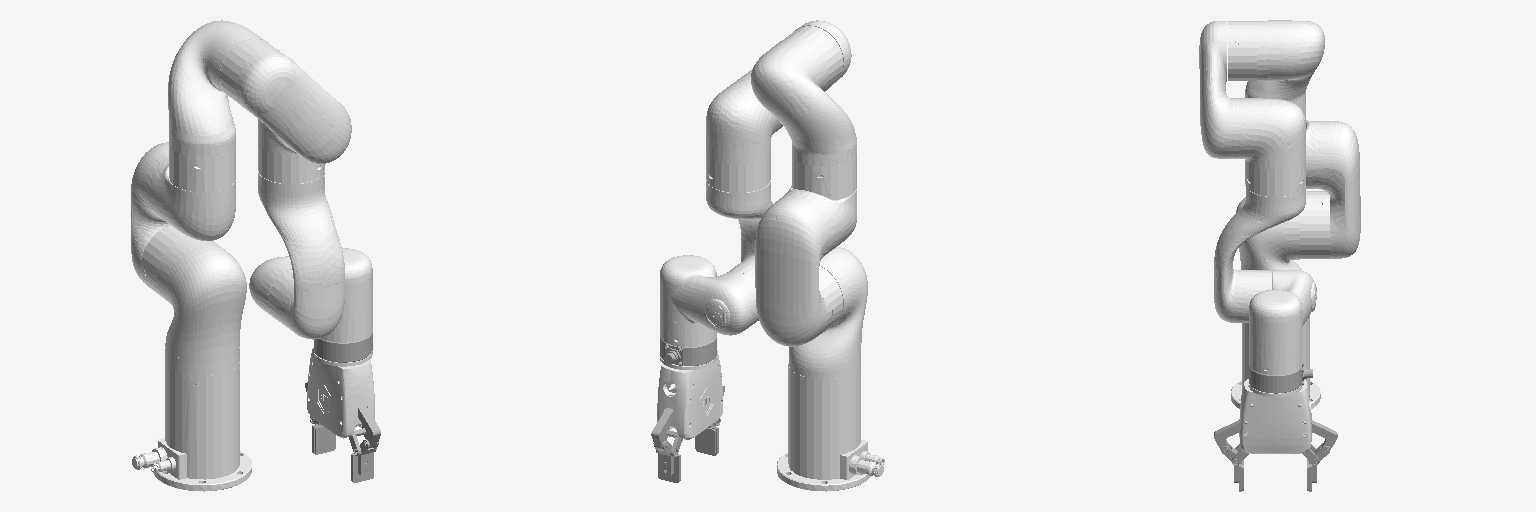
--- What the picture shows (computed from the rendered views, not written in the file) ---
Views: 3 orthographic renders of the robot side by side, from view 1: azimuth 30°, elevation 25°; view 2: azimuth 150°, elevation 25°; view 3: azimuth 270°, elevation 25°.
Model UF_ROBOT with 18 links and 17 joints (13 revolute, 4 fixed), rooted at world, posed all joints at 0.
Visible links, largest first — view 1: link1, link4, link5, link_base, link3, link2, xarm_gripper_base_link, link6, link7, left_finger, right_finger; view 2: link2, link3, link_base, link4, link6, link1, xarm_gripper_base_link, link5, link7, right_finger, left_finger; view 3: link4, link3, link2, link6, link5, xarm_gripper_base_link, link1, link_base, link7.
Boxes of the visible links, x1=… form: link1: x1=141, y1=225, x2=246, y2=375; link4: x1=236, y1=50, x2=351, y2=183; link5: x1=258, y1=171, x2=344, y2=339; link_base: x1=132, y1=362, x2=251, y2=491; link3: x1=168, y1=20, x2=279, y2=156; link2: x1=131, y1=142, x2=235, y2=287; xarm_gripper_base_link: x1=307, y1=346, x2=374, y2=438; link6: x1=249, y1=248, x2=372, y2=342; link7: x1=314, y1=331, x2=372, y2=362; left_finger: x1=351, y1=439, x2=378, y2=482; right_finger: x1=312, y1=422, x2=335, y2=454; link2: x1=755, y1=155, x2=856, y2=346; link3: x1=751, y1=26, x2=856, y2=166; link_base: x1=777, y1=363, x2=884, y2=491; link4: x1=706, y1=20, x2=851, y2=192; link6: x1=660, y1=255, x2=758, y2=346; link1: x1=789, y1=247, x2=867, y2=378; xarm_gripper_base_link: x1=657, y1=351, x2=722, y2=439; link5: x1=706, y1=180, x2=772, y2=280; link7: x1=660, y1=337, x2=716, y2=365; right_finger: x1=653, y1=441, x2=680, y2=482; left_finger: x1=695, y1=424, x2=718, y2=455; link4: x1=1199, y1=21, x2=1305, y2=196; link3: x1=1228, y1=20, x2=1324, y2=107; link2: x1=1301, y1=103, x2=1360, y2=258; link6: x1=1249, y1=270, x2=1316, y2=374; link5: x1=1214, y1=184, x2=1305, y2=322; xarm_gripper_base_link: x1=1239, y1=379, x2=1311, y2=453; link1: x1=1236, y1=191, x2=1329, y2=289; link_base: x1=1231, y1=316, x2=1320, y2=408; link7: x1=1249, y1=362, x2=1312, y2=393.
Bounding box of the posed robot: 0.3358 × 0.2259 × 0.6444 m (x, y, z).
15 mesh visuals loaded from 15 distinct referenced files (15 Collada DAE).

URDF robot description (UF_ROBOT):
<?xml version="1.0" ?>
<!-- =================================================================================== -->
<!-- |    This document was autogenerated by xacro from xarm_device.urdf.xacro         | -->
<!-- |    EDITING THIS FILE BY HAND IS NOT RECOMMENDED                                 | -->
<!-- =================================================================================== -->
<robot name="UF_ROBOT">
  <!-- Insert at the beginning of xarm_device_macro.xacro -->
  <material name="Black">
    <color rgba="0.0 0.0 0.0 1.0"/>
  </material>
  <material name="Red">
    <color rgba="0.8 0.0 0.0 1.0"/>
  </material>
  <material name="White">
    <color rgba="1.0 1.0 1.0 1.0"/>
  </material>
  <material name="Silver">
    <color rgba="0.753 0.753 0.753 1.0"/>
  </material>
  <link name="world"/>
  <joint name="world_joint" type="fixed">
    <parent link="world"/>
    <child link="link_base"/>
    <origin rpy="0 0 0" xyz="0 0 0"/>
  </joint>
  <ros2_control name="uf_robot_hardware/UFRobotSystemHardware" type="system">
    <hardware>
      <plugin>uf_robot_hardware/UFRobotSystemHardware</plugin>
      <param name="hw_ns">xarm</param>
      <param name="velocity_control">False</param>
      <param name="prefix">P</param>
      <param name="robot_ip">R</param>
      <param name="report_type">normal</param>
      <param name="dof">7</param>
      <param name="baud_checkset">True</param>
      <param name="default_gripper_baud">2000000</param>
      <param name="robot_type">xarm</param>
      <param name="add_gripper">True</param>
      <param name="add_bio_gripper">False</param>
    </hardware>
    <joint name="joint1">
      <command_interface name="position">
        <param name="min">-6.283185307179586</param>
        <param name="max">6.283185307179586</param>
      </command_interface>
      <command_interface name="velocity">
        <param name="min">-3.14</param>
        <param name="max">3.14</param>
      </command_interface>
      <state_interface name="position"/>
      <state_interface name="velocity"/>
      <!-- <state_interface name="effort"/> -->
    </joint>
    <joint name="joint2">
      <command_interface name="position">
        <param name="min">-2.059</param>
        <param name="max">2.0944</param>
      </command_interface>
      <command_interface name="velocity">
        <param name="min">-3.14</param>
        <param name="max">3.14</param>
      </command_interface>
      <state_interface name="position"/>
      <state_interface name="velocity"/>
      <!-- <state_interface name="effort"/> -->
    </joint>
    <joint name="joint3">
      <command_interface name="position">
        <param name="min">-6.283185307179586</param>
        <param name="max">6.283185307179586</param>
      </command_interface>
      <command_interface name="velocity">
        <param name="min">-3.14</param>
        <param name="max">3.14</param>
      </command_interface>
      <state_interface name="position"/>
      <state_interface name="velocity"/>
      <!-- <state_interface name="effort"/> -->
    </joint>
    <joint name="joint4">
      <command_interface name="position">
        <param name="min">-0.19198</param>
        <param name="max">3.927</param>
      </command_interface>
      <command_interface name="velocity">
        <param name="min">-3.14</param>
        <param name="max">3.14</param>
      </command_interface>
      <state_interface name="position"/>
      <state_interface name="velocity"/>
      <!-- <state_interface name="effort"/> -->
    </joint>
    <joint name="joint5">
      <command_interface name="position">
        <param name="min">-6.283185307179586</param>
        <param name="max">6.283185307179586</param>
      </command_interface>
      <command_interface name="velocity">
        <param name="min">-3.14</param>
        <param name="max">3.14</param>
      </command_interface>
      <state_interface name="position"/>
      <state_interface name="velocity"/>
      <!-- <state_interface name="effort"/> -->
    </joint>
    <joint name="joint6">
      <command_interface name="position">
        <param name="min">-1.69297</param>
        <param name="max">3.141592653589793</param>
      </command_interface>
      <command_interface name="velocity">
        <param name="min">-3.14</param>
        <param name="max">3.14</param>
      </command_interface>
      <state_interface name="position"/>
      <state_interface name="velocity"/>
      <!-- <state_interface name="effort"/> -->
    </joint>
    <joint name="joint7">
      <command_interface name="position">
        <param name="min">-6.283185307179586</param>
        <param name="max">6.283185307179586</param>
      </command_interface>
      <command_interface name="velocity">
        <param name="min">-3.14</param>
        <param name="max">3.14</param>
      </command_interface>
      <state_interface name="position"/>
      <state_interface name="velocity"/>
      <!-- <state_interface name="effort"/> -->
    </joint>
  </ros2_control>
  <link name="link_base">
    <inertial>
      <origin rpy="0 0 0" xyz="-0.021131 -0.0016302 0.056488"/>
      <mass value="0.88556"/>
      <inertia ixx="0.0030595" ixy="0.00012259" ixz="-0.00062705" iyy="0.0037783" iyz="0.00027023" izz="0.0020125"/>
    </inertial>
    <visual>
      <geometry>
        <mesh filename="package://xarm_description/meshes/xarm7/visual/link_base.dae"/>
      </geometry>
      <origin rpy="0 0 0" xyz="0 0 0"/>
      <material name="White"/>
    </visual>
    <collision>
      <geometry>
        <mesh filename="package://xarm_description/meshes/xarm7/visual/link_base.dae"/>
      </geometry>
      <origin rpy="0 0 0" xyz="0 0 0"/>
    </collision>
  </link>
  <link name="link1">
    <inertial>
      <origin rpy="0 0 0" xyz="-0.0002 0.02905 -0.01233"/>
      <mass value="2.382"/>
      <inertia ixx="0.0056905" ixy="-1.579e-05" ixz="5.125e-06" iyy="0.0049566" iyz="-0.000873378" izz="0.003316654"/>
    </inertial>
    <visual>
      <geometry>
        <mesh filename="package://xarm_description/meshes/xarm7/visual/link1.dae"/>
      </geometry>
      <origin rpy="0 0 0" xyz="0 0 0"/>
      <material name="White"/>
    </visual>
    <collision>
      <geometry>
        <mesh filename="package://xarm_description/meshes/xarm7/visual/link1.dae"/>
      </geometry>
      <origin rpy="0 0 0" xyz="0 0 0"/>
    </collision>
  </link>
  <joint name="joint1" type="revolute">
    <origin rpy="0 0 0" xyz="0 0 0.267"/>
    <parent link="link_base"/>
    <child link="link1"/>
    <axis xyz="0 0 1"/>
    <limit effort="50" lower="-6.283185307179586" upper="6.283185307179586" velocity="3.14"/>
    <dynamics damping="10" friction="1"/>
  </joint>
  <link name="link2">
    <inertial>
      <origin rpy="0 0 0" xyz="0.00022 -0.12856 0.01735"/>
      <mass value="1.869"/>
      <inertia ixx="0.0095989" ixy="1.541e-06" ixz="5.56e-06" iyy="0.00382472" iyz="-0.00317156" izz="0.007565669"/>
    </inertial>
    <visual>
      <geometry>
        <mesh filename="package://xarm_description/meshes/xarm7/visual/link2.dae"/>
      </geometry>
      <origin rpy="0 0 0" xyz="0 0 0"/>
      <material name="White"/>
    </visual>
    <collision>
      <geometry>
        <mesh filename="package://xarm_description/meshes/xarm7/visual/link2.dae"/>
      </geometry>
      <origin rpy="0 0 0" xyz="0 0 0"/>
    </collision>
  </link>
  <joint name="joint2" type="revolute">
    <origin rpy="-1.5708 0 0" xyz="0 0 0"/>
    <parent link="link1"/>
    <child link="link2"/>
    <axis xyz="0 0 1"/>
    <limit effort="50" lower="-2.059" upper="2.0944" velocity="3.14"/>
    <dynamics damping="10" friction="1"/>
  </joint>
  <link name="link3">
    <inertial>
      <origin rpy="0 0 0" xyz="0.0466 -0.02463 -0.00768"/>
      <mass value="1.6383"/>
      <inertia ixx="0.00310955" ixy="0.00030837" ixz="-0.00058453" iyy="0.00264483" iyz="0.000338893" izz="0.0026624"/>
    </inertial>
    <visual>
      <geometry>
        <mesh filename="package://xarm_description/meshes/xarm7/visual/link3.dae"/>
      </geometry>
      <origin rpy="0 0 0" xyz="0 0 0"/>
      <material name="White"/>
    </visual>
    <collision>
      <geometry>
        <mesh filename="package://xarm_description/meshes/xarm7/visual/link3.dae"/>
      </geometry>
      <origin rpy="0 0 0" xyz="0 0 0"/>
    </collision>
  </link>
  <joint name="joint3" type="revolute">
    <origin rpy="1.5708 0 0" xyz="0 -0.293 0"/>
    <parent link="link2"/>
    <child link="link3"/>
    <axis xyz="0 0 1"/>
    <limit effort="30" lower="-6.283185307179586" upper="6.283185307179586" velocity="3.14"/>
    <dynamics damping="5" friction="1"/>
  </joint>
  <link name="link4">
    <inertial>
      <origin rpy="0 0 0" xyz="0.07047 -0.11575 0.012"/>
      <mass value="1.7269"/>
      <inertia ixx="0.005889" ixy="0.00137112" ixz="0.00088143" iyy="0.00359703" iyz="-0.001762155" izz="0.00543244"/>
    </inertial>
    <visual>
      <geometry>
        <mesh filename="package://xarm_description/meshes/xarm7/visual/link4.dae"/>
      </geometry>
      <origin rpy="0 0 0" xyz="0 0 0"/>
      <material name="White"/>
    </visual>
    <collision>
      <geometry>
        <mesh filename="package://xarm_description/meshes/xarm7/visual/link4.dae"/>
      </geometry>
      <origin rpy="0 0 0" xyz="0 0 0"/>
    </collision>
  </link>
  <joint name="joint4" type="revolute">
    <origin rpy="1.5708 0 0" xyz="0.0525 0 0"/>
    <parent link="link3"/>
    <child link="link4"/>
    <axis xyz="0 0 1"/>
    <limit effort="30" lower="-0.19198" upper="3.927" velocity="3.14"/>
    <dynamics damping="5" friction="1"/>
  </joint>
  <link name="link5">
    <inertial>
      <origin rpy="0 0 0" xyz="-0.00032 0.01604 -0.026"/>
      <mass value="1.3203"/>
      <inertia ixx="0.00534665" ixy="1.5117e-05" ixz="-3.69e-07" iyy="0.0049779" iyz="-0.00022132" izz="0.0013624"/>
    </inertial>
    <visual>
      <geometry>
        <mesh filename="package://xarm_description/meshes/xarm7/visual/link5.dae"/>
      </geometry>
      <origin rpy="0 0 0" xyz="0 0 0"/>
      <material name="White"/>
    </visual>
    <collision>
      <geometry>
        <mesh filename="package://xarm_description/meshes/xarm7/visual/link5.dae"/>
      </geometry>
      <origin rpy="0 0 0" xyz="0 0 0"/>
    </collision>
  </link>
  <joint name="joint5" type="revolute">
    <origin rpy="1.5708 0 0" xyz="0.0775 -0.3425 0"/>
    <parent link="link4"/>
    <child link="link5"/>
    <axis xyz="0 0 1"/>
    <limit effort="30" lower="-6.283185307179586" upper="6.283185307179586" velocity="3.14"/>
    <dynamics damping="5" friction="1"/>
  </joint>
  <link name="link6">
    <inertial>
      <origin rpy="0 0 0" xyz="0.06469 0.03278 0.02141"/>
      <mass value="1.325"/>
      <inertia ixx="0.0014745" ixy="-0.000488" ixz="0.0002953" iyy="0.0019037" iyz="0.00014749" izz="0.0023652"/>
    </inertial>
    <visual>
      <geometry>
        <mesh filename="package://xarm_description/meshes/xarm7/visual/link6.dae"/>
      </geometry>
      <origin rpy="0 0 0" xyz="0 0 0"/>
      <material name="White"/>
    </visual>
    <collision>
      <geometry>
        <mesh filename="package://xarm_description/meshes/xarm7/visual/link6.dae"/>
      </geometry>
      <origin rpy="0 0 0" xyz="0 0 0"/>
    </collision>
  </link>
  <joint name="joint6" type="revolute">
    <origin rpy="1.5708 0 0" xyz="0 0 0"/>
    <parent link="link5"/>
    <child link="link6"/>
    <axis xyz="0 0 1"/>
    <limit effort="20" lower="-1.69297" upper="3.141592653589793" velocity="3.14"/>
    <dynamics damping="2" friction="1"/>
  </joint>
  <link name="link7">
    <inertial>
      <origin rpy="0 0 0" xyz="0 -0.00677 -0.01098"/>
      <mass value="0.17"/>
      <inertia ixx="9.3e-05" ixy="-0.0" ixz="-0.0" iyy="5.87e-05" iyz="-3.6e-06" izz="0.000132"/>
    </inertial>
    <visual>
      <geometry>
        <mesh filename="package://xarm_description/meshes/xarm7/visual/link7.dae"/>
      </geometry>
      <origin rpy="0 0 0" xyz="0 0 0"/>
      <material name="Silver"/>
    </visual>
    <collision>
      <geometry>
        <mesh filename="package://xarm_description/meshes/end_tool/collision/end_tool.dae"/>
      </geometry>
      <origin rpy="0 0 0" xyz="0 0 0"/>
    </collision>
  </link>
  <joint name="joint7" type="revolute">
    <origin rpy="-1.5708 0 0" xyz="0.076 0.097 0"/>
    <parent link="link6"/>
    <child link="link7"/>
    <axis xyz="0 0 1"/>
    <limit effort="20" lower="-6.283185307179586" upper="6.283185307179586" velocity="3.14"/>
    <dynamics damping="2" friction="1"/>
  </joint>
  <!-- <link name="${prefix}link_eef" />
    <joint name="${prefix}joint_eef" type="fixed">
      <origin xyz="0 0 0" rpy="0 0 0" />
      <parent link="${prefix}link7" />
      <child link="${prefix}link_eef" />
    </joint> -->
  <transmission name="tran1">
    <type>transmission_interface/SimpleTransmission</type>
    <joint name="joint1">
      <hardwareInterface>hardware_interface/PositionJointInterface</hardwareInterface>
    </joint>
    <actuator name="motor1">
      <hardwareInterface>hardware_interface/PositionJointInterface</hardwareInterface>
      <mechanicalReduction>100</mechanicalReduction>
    </actuator>
  </transmission>
  <transmission name="tran2">
    <type>transmission_interface/SimpleTransmission</type>
    <joint name="joint2">
      <hardwareInterface>hardware_interface/PositionJointInterface</hardwareInterface>
    </joint>
    <actuator name="motor2">
      <hardwareInterface>hardware_interface/PositionJointInterface</hardwareInterface>
      <mechanicalReduction>100</mechanicalReduction>
    </actuator>
  </transmission>
  <transmission name="tran3">
    <type>transmission_interface/SimpleTransmission</type>
    <joint name="joint3">
      <hardwareInterface>hardware_interface/PositionJointInterface</hardwareInterface>
    </joint>
    <actuator name="motor3">
      <hardwareInterface>hardware_interface/PositionJointInterface</hardwareInterface>
      <mechanicalReduction>100</mechanicalReduction>
    </actuator>
  </transmission>
  <transmission name="tran4">
    <type>transmission_interface/SimpleTransmission</type>
    <joint name="joint4">
      <hardwareInterface>hardware_interface/PositionJointInterface</hardwareInterface>
    </joint>
    <actuator name="motor4">
      <hardwareInterface>hardware_interface/PositionJointInterface</hardwareInterface>
      <mechanicalReduction>100</mechanicalReduction>
    </actuator>
  </transmission>
  <transmission name="tran5">
    <type>transmission_interface/SimpleTransmission</type>
    <joint name="joint5">
      <hardwareInterface>hardware_interface/PositionJointInterface</hardwareInterface>
    </joint>
    <actuator name="motor5">
      <hardwareInterface>hardware_interface/PositionJointInterface</hardwareInterface>
      <mechanicalReduction>100</mechanicalReduction>
    </actuator>
  </transmission>
  <transmission name="tran6">
    <type>transmission_interface/SimpleTransmission</type>
    <joint name="joint6">
      <hardwareInterface>hardware_interface/PositionJointInterface</hardwareInterface>
    </joint>
    <actuator name="motor6">
      <hardwareInterface>hardware_interface/PositionJointInterface</hardwareInterface>
      <mechanicalReduction>100</mechanicalReduction>
    </actuator>
  </transmission>
  <transmission name="tran7">
    <type>transmission_interface/SimpleTransmission</type>
    <joint name="joint7">
      <hardwareInterface>hardware_interface/PositionJointInterface</hardwareInterface>
    </joint>
    <actuator name="motor7">
      <hardwareInterface>hardware_interface/PositionJointInterface</hardwareInterface>
      <mechanicalReduction>100</mechanicalReduction>
    </actuator>
  </transmission>
  <gazebo reference="link_base">
    <selfCollide>true</selfCollide>
  </gazebo>
  <gazebo reference="link1">
    <selfCollide>true</selfCollide>
  </gazebo>
  <gazebo reference="link2">
    <selfCollide>true</selfCollide>
  </gazebo>
  <gazebo reference="link3">
    <selfCollide>true</selfCollide>
  </gazebo>
  <gazebo reference="link4">
    <selfCollide>true</selfCollide>
  </gazebo>
  <gazebo reference="link5">
    <selfCollide>true</selfCollide>
  </gazebo>
  <gazebo reference="link6">
    <selfCollide>true</selfCollide>
  </gazebo>
  <gazebo reference="link7">
    <selfCollide>true</selfCollide>
  </gazebo>
  <link name="link_eef"/>
  <joint name="joint_eef" type="fixed">
    <origin rpy="0 0 0" xyz="0 0 0"/>
    <parent link="link7"/>
    <child link="link_eef"/>
  </joint>
  <joint name="gripper_fix" type="fixed">
    <parent link="link_eef"/>
    <child link="xarm_gripper_base_link"/>
    <origin rpy="0 0 0" xyz="0 0 0"/>
  </joint>
  <link name="xarm_gripper_base_link">
    <inertial>
      <origin rpy="0 0 0" xyz="-0.00065489 -0.0018497 0.048028"/>
      <mass value="0.54156"/>
      <inertia ixx="0.00047106" ixy="3.9292E-07" ixz="2.6537E-06" iyy="0.00033072" iyz="-1.0975E-05" izz="0.00025642"/>
    </inertial>
    <visual>
      <geometry>
        <mesh filename="package://xarm_description/meshes/gripper/xarm/base_link.dae"/>
      </geometry>
      <origin rpy="0 0 0" xyz="0 0 0"/>
      <material name="White"/>
    </visual>
    <collision>
      <geometry>
        <mesh filename="package://xarm_description/meshes/gripper/xarm/base_link.dae"/>
      </geometry>
      <origin rpy="0 0 0" xyz="0 0 0"/>
    </collision>
  </link>
  <link name="left_outer_knuckle">
    <inertial>
      <origin rpy="0 0 0" xyz="2.9948E-14 0.021559 0.015181"/>
      <mass value="0.033618"/>
      <inertia ixx="1.9111E-05" ixy="-1.8803E-17" ixz="-1.1002E-17" iyy="6.6256E-06" iyz="-7.3008E-06" izz="1.3185E-05"/>
    </inertial>
    <visual>
      <geometry>
        <mesh filename="package://xarm_description/meshes/gripper/xarm/left_outer_knuckle.dae"/>
      </geometry>
      <origin rpy="0 0 0" xyz="0 0 0"/>
      <material name="Silver"/>
    </visual>
    <collision>
      <geometry>
        <mesh filename="package://xarm_description/meshes/gripper/xarm/left_outer_knuckle.dae"/>
      </geometry>
      <origin rpy="0 0 0" xyz="0 0 0"/>
    </collision>
  </link>
  <joint name="drive_joint" type="revolute">
    <origin rpy="0 0 0" xyz="0 0.035 0.059098"/>
    <parent link="xarm_gripper_base_link"/>
    <child link="left_outer_knuckle"/>
    <axis xyz="1 0 0"/>
    <limit effort="50" lower="0" upper="0.85" velocity="2"/>
  </joint>
  <link name="left_finger">
    <inertial>
      <origin rpy="0 0 0" xyz="-2.4536E-14 -0.016413 0.029258"/>
      <mass value="0.048304"/>
      <inertia ixx="1.7493E-05" ixy="-4.2156E-19" ixz="6.9164E-18" iyy="1.7225E-05" iyz="4.6433E-06" izz="5.1466E-06"/>
    </inertial>
    <visual>
      <geometry>
        <mesh filename="package://xarm_description/meshes/gripper/xarm/left_finger.dae"/>
      </geometry>
      <origin rpy="0 0 0" xyz="0 0 0"/>
      <material name="Silver"/>
    </visual>
    <collision>
      <geometry>
        <mesh filename="package://xarm_description/meshes/gripper/xarm/left_finger.dae"/>
      </geometry>
      <origin rpy="0 0 0" xyz="0 0 0"/>
    </collision>
  </link>
  <joint name="left_finger_joint" type="revolute">
    <origin rpy="0 0 0" xyz="0 0.035465 0.042039"/>
    <parent link="left_outer_knuckle"/>
    <child link="left_finger"/>
    <axis xyz="-1 0 0"/>
    <limit effort="50" lower="0" upper="0.85" velocity="2"/>
    <mimic joint="drive_joint" multiplier="1" offset="0"/>
  </joint>
  <link name="left_inner_knuckle">
    <inertial>
      <origin rpy="0 0 0" xyz="1.86600784687907E-06 0.0220467847633621 0.0261334672830885"/>
      <mass value="0.0230125781256706"/>
      <inertia ixx="6.09490024271906E-06" ixy="6.06651326160071E-11" ixz="7.19102670500635E-11" iyy="6.01955084375188E-06" iyz="-2.75316812991721E-06" izz="5.07862004479903E-06"/>
    </inertial>
    <visual>
      <geometry>
        <mesh filename="package://xarm_description/meshes/gripper/xarm/left_inner_knuckle.dae"/>
      </geometry>
      <origin rpy="0 0 0" xyz="0 0 0"/>
      <material name="Silver"/>
    </visual>
    <collision>
      <geometry>
        <mesh filename="package://xarm_description/meshes/gripper/xarm/left_inner_knuckle.dae"/>
      </geometry>
      <origin rpy="0 0 0" xyz="0 0 0"/>
    </collision>
  </link>
  <joint name="left_inner_knuckle_joint" type="revolute">
    <origin rpy="0 0 0" xyz="0 0.02 0.074098"/>
    <parent link="xarm_gripper_base_link"/>
    <child link="left_inner_knuckle"/>
    <axis xyz="1 0 0"/>
    <limit effort="50" lower="0" upper="0.85" velocity="2"/>
    <mimic joint="drive_joint" multiplier="1" offset="0"/>
  </joint>
  <link name="right_outer_knuckle">
    <inertial>
      <origin rpy="0 0 0" xyz="-3.1669E-14 -0.021559 0.015181"/>
      <mass value="0.033618"/>
      <inertia ixx="1.9111E-05" ixy="-1.8789E-17" ixz="1.0986E-17" iyy="6.6256E-06" iyz="7.3008E-06" izz="1.3185E-05"/>
    </inertial>
    <visual>
      <geometry>
        <mesh filename="package://xarm_description/meshes/gripper/xarm/right_outer_knuckle.dae"/>
      </geometry>
      <origin rpy="0 0 0" xyz="0 0 0"/>
      <material name="Silver"/>
    </visual>
    <collision>
      <geometry>
        <mesh filename="package://xarm_description/meshes/gripper/xarm/right_outer_knuckle.dae"/>
      </geometry>
      <origin rpy="0 0 0" xyz="0 0 0"/>
    </collision>
  </link>
  <joint name="right_outer_knuckle_joint" type="revolute">
    <origin rpy="0 0 0" xyz="0 -0.035 0.059098"/>
    <parent link="xarm_gripper_base_link"/>
    <child link="right_outer_knuckle"/>
    <axis xyz="-1 0 0"/>
    <limit effort="50" lower="0" upper="0.85" velocity="2"/>
    <mimic joint="drive_joint" multiplier="1" offset="0"/>
  </joint>
  <link name="right_finger">
    <inertial>
      <origin rpy="0 0 0" xyz="2.5618E-14 0.016413 0.029258"/>
      <mass value="0.048304"/>
      <inertia ixx="1.7493E-05" ixy="-5.0014E-19" ixz="-7.5079E-18" iyy="1.7225E-05" iyz="-4.6435E-06" izz="5.1466E-06"/>
    </inertial>
    <visual>
      <geometry>
        <mesh filename="package://xarm_description/meshes/gripper/xarm/right_finger.dae"/>
      </geometry>
      <origin rpy="0 0 0" xyz="0 0 0"/>
      <material name="Silver"/>
    </visual>
    <collision>
      <geometry>
        <mesh filename="package://xarm_description/meshes/gripper/xarm/right_finger.dae"/>
      </geometry>
      <origin rpy="0 0 0" xyz="0 0 0"/>
    </collision>
  </link>
  <joint name="right_finger_joint" type="revolute">
    <origin rpy="0 0 0" xyz="0 -0.035465 0.042039"/>
    <parent link="right_outer_knuckle"/>
    <child link="right_finger"/>
    <axis xyz="1 0 0"/>
    <limit effort="50" lower="0" upper="0.85" velocity="2"/>
    <mimic joint="drive_joint" multiplier="1" offset="0"/>
  </joint>
  <link name="right_inner_knuckle">
    <inertial>
      <origin rpy="0 0 0" xyz="1.866E-06 -0.022047 0.026133"/>
      <mass value="0.023013"/>
      <inertia ixx="6.0949E-06" ixy="-6.0665E-11" ixz="7.191E-11" iyy="6.0197E-06" iyz="2.7531E-06" izz="5.0784E-06"/>
    </inertial>
    <visual>
      <geometry>
        <mesh filename="package://xarm_description/meshes/gripper/xarm/right_inner_knuckle.dae"/>
      </geometry>
      <origin rpy="0 0 0" xyz="0 0 0"/>
      <material name="Silver"/>
    </visual>
    <collision>
      <geometry>
        <mesh filename="package://xarm_description/meshes/gripper/xarm/right_inner_knuckle.dae"/>
      </geometry>
      <origin rpy="0 0 0" xyz="0 0 0"/>
    </collision>
  </link>
  <joint name="right_inner_knuckle_joint" type="revolute">
    <origin rpy="0 0 0" xyz="0 -0.02 0.074098"/>
    <parent link="xarm_gripper_base_link"/>
    <child link="right_inner_knuckle"/>
    <axis xyz="-1 0 0"/>
    <limit effort="50" lower="0" upper="0.85" velocity="2"/>
    <mimic joint="drive_joint" multiplier="1" offset="0"/>
  </joint>
  <link name="link_tcp"/>
  <joint name="joint_tcp" type="fixed">
    <origin rpy="0 0 0" xyz="0 0 0.172"/>
    <parent link="xarm_gripper_base_link"/>
    <child link="link_tcp"/>
  </joint>
  <transmission name="drive_joint_trans">
    <type>transmission_interface/SimpleTransmission</type>
    <joint name="drive_joint">
      <hardwareInterface>hardware_interface/PositionJointInterface</hardwareInterface>
    </joint>
    <actuator name="drive_joint_motor">
      <hardwareInterface>hardware_interface/PositionJointInterface</hardwareInterface>
      <mechanicalReduction>1</mechanicalReduction>
    </actuator>
  </transmission>
  <gazebo reference="xarm_gripper_base_link">
    <selfCollide>false</selfCollide>
  </gazebo>
  <gazebo reference="left_outer_knuckle">
    <selfCollide>false</selfCollide>
  </gazebo>
  <gazebo reference="left_finger">
    <selfCollide>false</selfCollide>
  </gazebo>
  <gazebo reference="left_inner_knuckle">
    <selfCollide>false</selfCollide>
  </gazebo>
  <gazebo reference="right_outer_knuckle">
    <selfCollide>false</selfCollide>
  </gazebo>
  <gazebo reference="right_finger">
    <selfCollide>false</selfCollide>
  </gazebo>
  <gazebo reference="right_inner_knuckle">
    <selfCollide>false</selfCollide>
  </gazebo>
  <gazebo>
    <plugin filename="libgazebo_mimic_joint_plugin.so" name="left_finger_jointmimic_joint_plugin">
      <joint>drive_joint</joint>
      <mimicJoint>left_finger_joint</mimicJoint>
      <!-- if set to true, PID parameters from "/gazebo_ros_control/pid_gains/${mimic_joint}" are loaded -->
      <hasPID/>
      <multiplier>1.0</multiplier>
      <offset>0</offset>
      <sensitiveness>0.0</sensitiveness>
      <!-- if absolute difference between setpoint and process value is below this threshold, do nothing; 0.0 = disable [rad] -->
      <maxEffort>10.0</maxEffort>
    </plugin>
  </gazebo>
  <gazebo>
    <plugin filename="libgazebo_mimic_joint_plugin.so" name="left_inner_knuckle_jointmimic_joint_plugin">
      <joint>drive_joint</joint>
      <mimicJoint>left_inner_knuckle_joint</mimicJoint>
      <!-- if set to true, PID parameters from "/gazebo_ros_control/pid_gains/${mimic_joint}" are loaded -->
      <hasPID/>
      <multiplier>1.0</multiplier>
      <offset>0</offset>
      <sensitiveness>0.0</sensitiveness>
      <!-- if absolute difference between setpoint and process value is below this threshold, do nothing; 0.0 = disable [rad] -->
      <maxEffort>10.0</maxEffort>
    </plugin>
  </gazebo>
  <gazebo>
    <plugin filename="libgazebo_mimic_joint_plugin.so" name="right_outer_knuckle_jointmimic_joint_plugin">
      <joint>drive_joint</joint>
      <mimicJoint>right_outer_knuckle_joint</mimicJoint>
      <!-- if set to true, PID parameters from "/gazebo_ros_control/pid_gains/${mimic_joint}" are loaded -->
      <hasPID/>
      <multiplier>1.0</multiplier>
      <offset>0</offset>
      <sensitiveness>0.0</sensitiveness>
      <!-- if absolute difference between setpoint and process value is below this threshold, do nothing; 0.0 = disable [rad] -->
      <maxEffort>10.0</maxEffort>
    </plugin>
  </gazebo>
  <gazebo>
    <plugin filename="libgazebo_mimic_joint_plugin.so" name="right_finger_jointmimic_joint_plugin">
      <joint>drive_joint</joint>
      <mimicJoint>right_finger_joint</mimicJoint>
      <!-- if set to true, PID parameters from "/gazebo_ros_control/pid_gains/${mimic_joint}" are loaded -->
      <hasPID/>
      <multiplier>1.0</multiplier>
      <offset>0</offset>
      <sensitiveness>0.0</sensitiveness>
      <!-- if absolute difference between setpoint and process value is below this threshold, do nothing; 0.0 = disable [rad] -->
      <maxEffort>10.0</maxEffort>
    </plugin>
  </gazebo>
  <gazebo>
    <plugin filename="libgazebo_mimic_joint_plugin.so" name="right_inner_knuckle_jointmimic_joint_plugin">
      <joint>drive_joint</joint>
      <mimicJoint>right_inner_knuckle_joint</mimicJoint>
      <!-- if set to true, PID parameters from "/gazebo_ros_control/pid_gains/${mimic_joint}" are loaded -->
      <hasPID/>
      <multiplier>1.0</multiplier>
      <offset>0</offset>
      <sensitiveness>0.0</sensitiveness>
      <!-- if absolute difference between setpoint and process value is below this threshold, do nothing; 0.0 = disable [rad] -->
      <maxEffort>10.0</maxEffort>
    </plugin>
  </gazebo>
  <!-- Insert at the end of xarm_device_macro.xacro -->
</robot>
